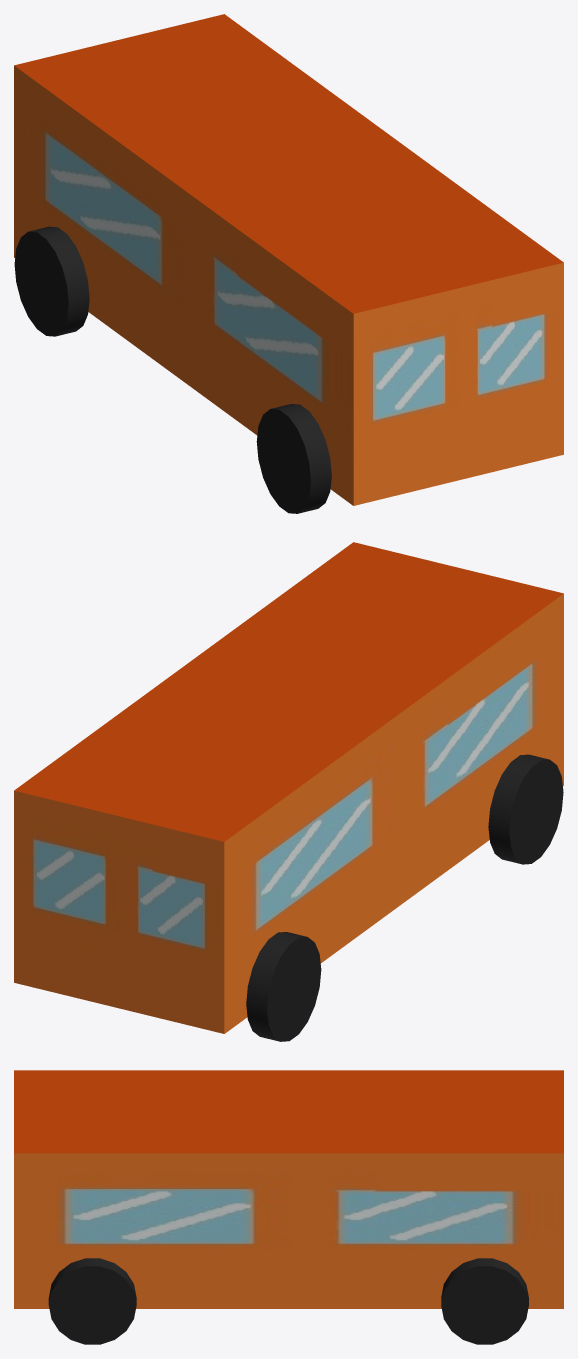
File: bus.FBX
The picture shows the model from 3 angles, top to bottom: view 1: azimuth 30°, elevation 25°; view 2: azimuth 150°, elevation 25°; view 3: azimuth 270°, elevation 25°; orthographic projection. The views are drawn at different scales.
Parts seen in each view (by area): view 1: Box001; view 2: Box001; view 3: Box001.
Boxes of the visible parts, box(x1,y1,x2,y2) form: Box001: box(14, 14, 563, 513); Box001: box(14, 542, 563, 1041); Box001: box(14, 1070, 563, 1344).
Bounding box in the file's own units: 1065 × 915 × 2489.
3 materials, 1 textured.
